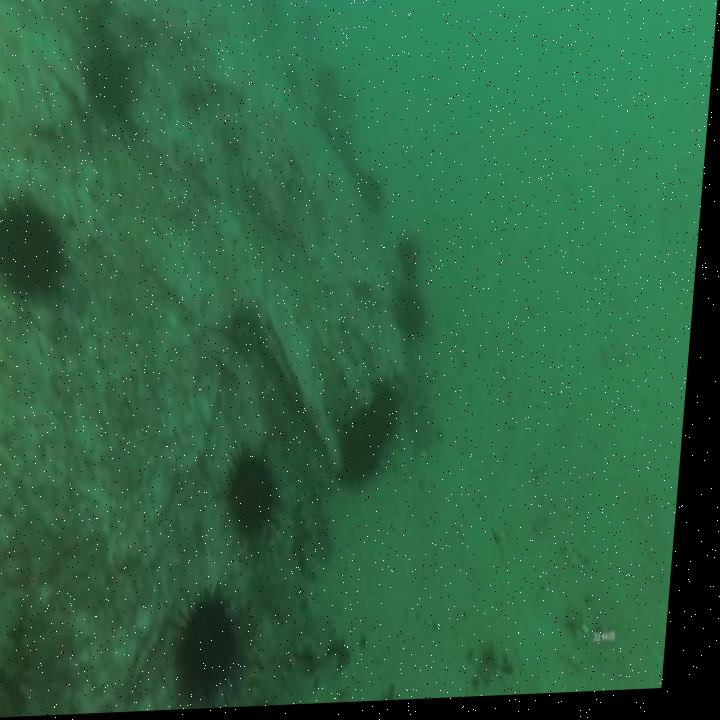echinus: (177, 579, 264, 712), (0, 175, 78, 313), (220, 438, 297, 563), (74, 30, 145, 129), (344, 408, 400, 499), (368, 372, 413, 454), (394, 279, 439, 353), (394, 232, 432, 291), (355, 165, 393, 220), (313, 64, 342, 117), (310, 107, 336, 151)
holothurian: (179, 71, 247, 127)
